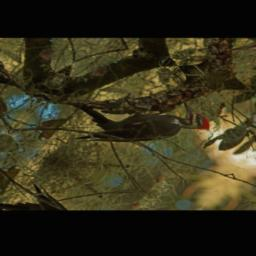Woodpecker: (70, 81, 224, 173)
